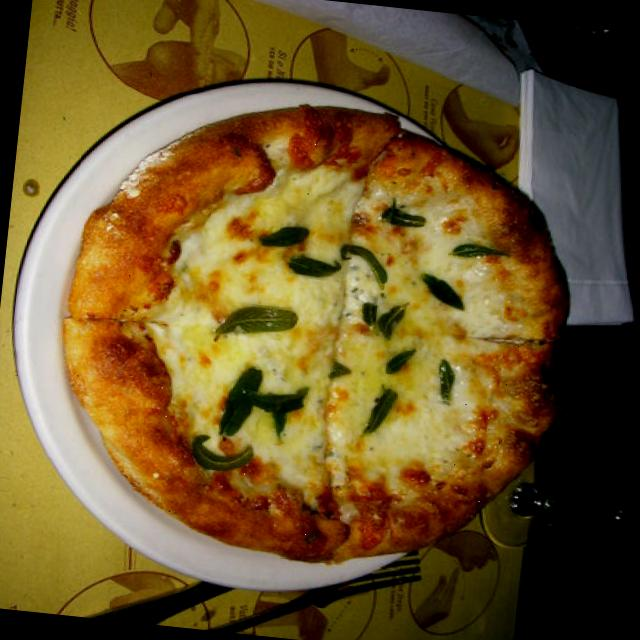basil: (218, 363, 264, 438), (215, 300, 298, 340), (415, 270, 472, 312), (338, 241, 392, 283), (362, 384, 401, 438), (359, 299, 406, 342), (192, 442, 256, 472), (248, 385, 310, 415), (258, 218, 310, 250), (288, 252, 344, 281), (450, 238, 510, 264), (382, 200, 429, 232), (431, 356, 458, 404), (264, 405, 292, 443), (384, 345, 417, 376), (328, 358, 353, 382)
pizza: (63, 105, 569, 561)
